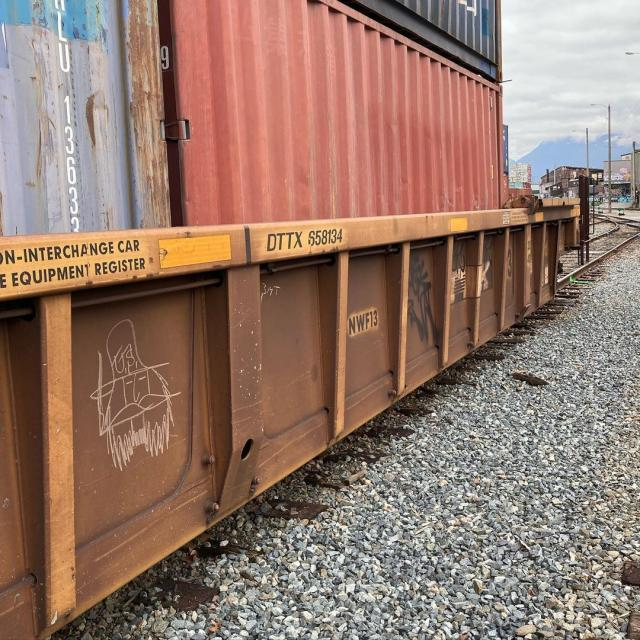-: (74, 310, 192, 470), (46, 1, 94, 236), (0, 234, 147, 292), (402, 243, 450, 359), (258, 213, 354, 261), (334, 302, 386, 341)
